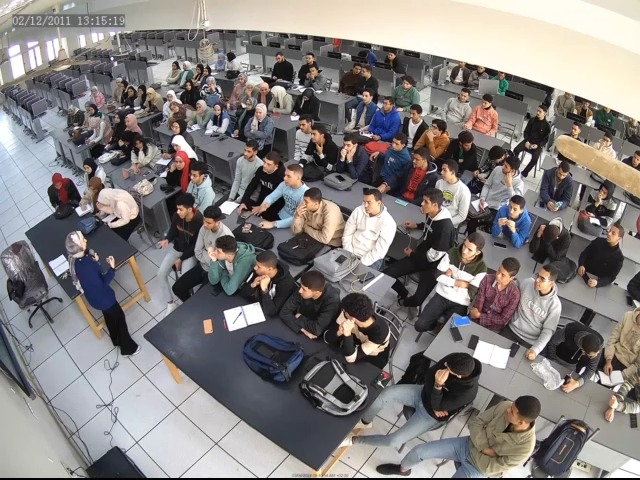phone: (449, 322, 528, 367), (331, 252, 375, 285), (559, 368, 588, 401), (575, 263, 598, 290), (204, 129, 231, 148), (489, 236, 512, 255), (534, 190, 552, 214), (138, 169, 158, 187), (203, 317, 215, 344), (391, 198, 414, 211), (359, 185, 376, 201), (625, 292, 637, 310), (223, 150, 238, 164), (336, 172, 350, 187)
zuobi: (325, 288, 390, 346), (485, 393, 546, 443), (292, 263, 337, 319), (444, 348, 499, 392), (575, 326, 607, 375), (347, 54, 380, 94)
